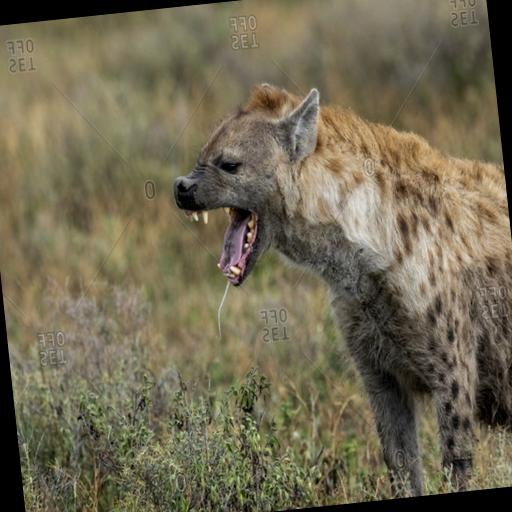hyenas: (142, 40, 512, 512)
